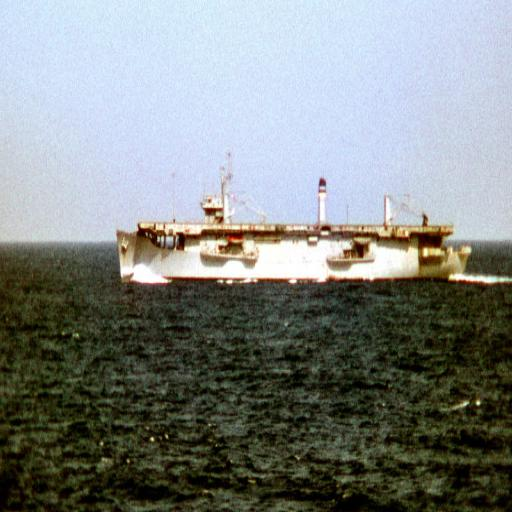Portanaves: (110, 142, 474, 295)
